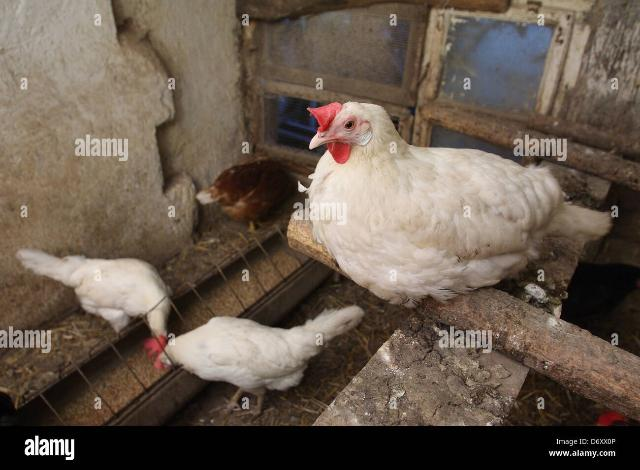Chicken: (305, 103, 614, 308), (158, 305, 362, 420), (16, 247, 173, 375), (195, 158, 301, 233)
